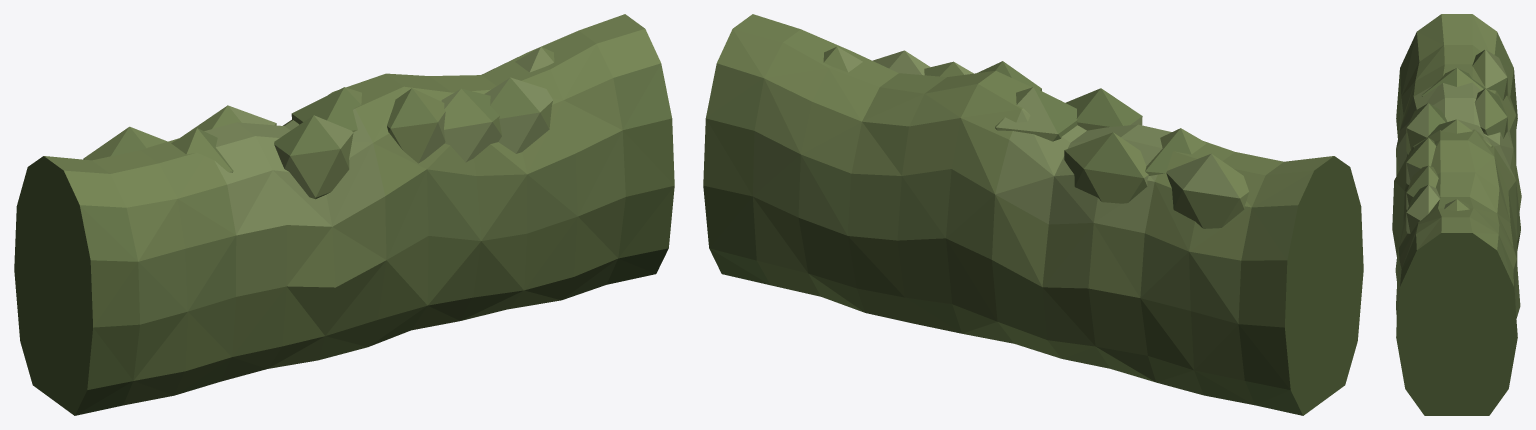
Rendered from lwf_hedge_straight_4m_b_v1.glb.
The picture shows the model from 3 angles, left to right: view 1: azimuth 30°, elevation 25°; view 2: azimuth 150°, elevation 25°; view 3: azimuth 270°, elevation 25°; orthographic projection. The views are drawn at different scales.
Parts seen in each view (by area): view 1: lwf_hedge_straight_4m_b_v1; view 2: lwf_hedge_straight_4m_b_v1; view 3: lwf_hedge_straight_4m_b_v1.
Boxes of the visible parts, bbox=[...] form: lwf_hedge_straight_4m_b_v1: bbox=[14, 14, 674, 415]; lwf_hedge_straight_4m_b_v1: bbox=[703, 14, 1363, 415]; lwf_hedge_straight_4m_b_v1: bbox=[1392, 14, 1521, 415].
Bounding box in the file's own units: 4 × 1.71 × 1.
1 material, 1 textured.
